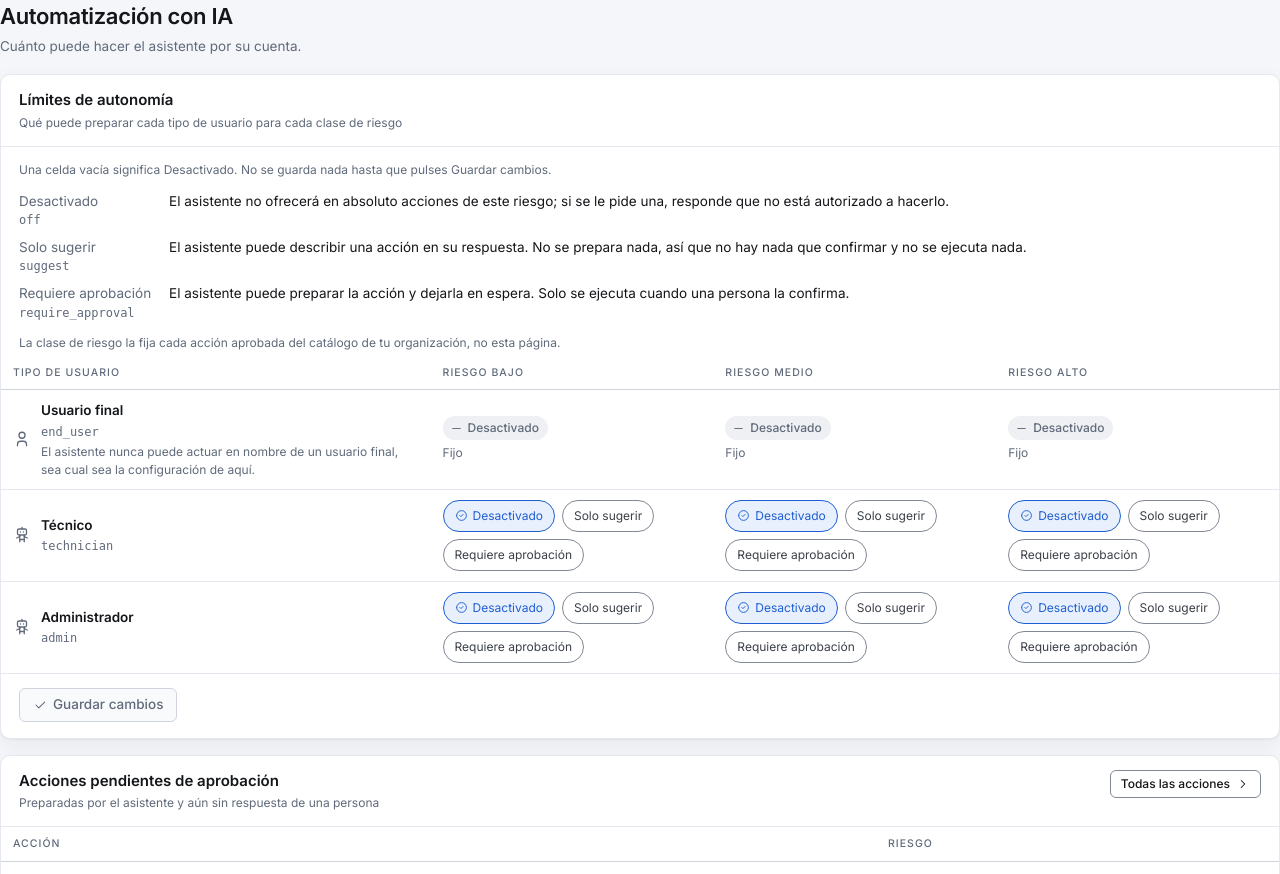
AutonomyDialPage in Spanish › applies the change, says it saved, and names the cell the server refused
Click the 1st button "Solo sugerir".
click(608, 516)  # box [562,500,654,532]
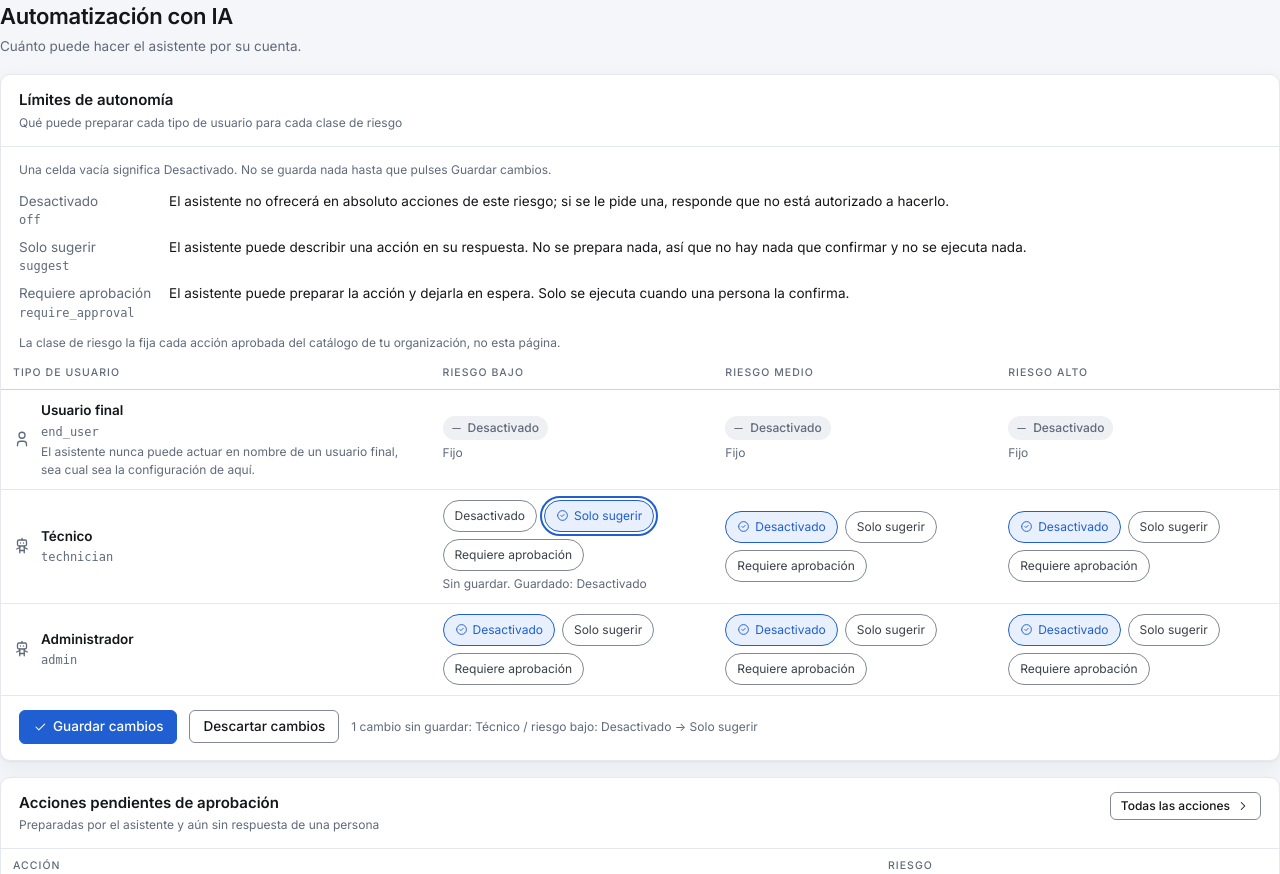
Click the button "Guardar cambios".
click(98, 726)  # box [19,710,177,744]
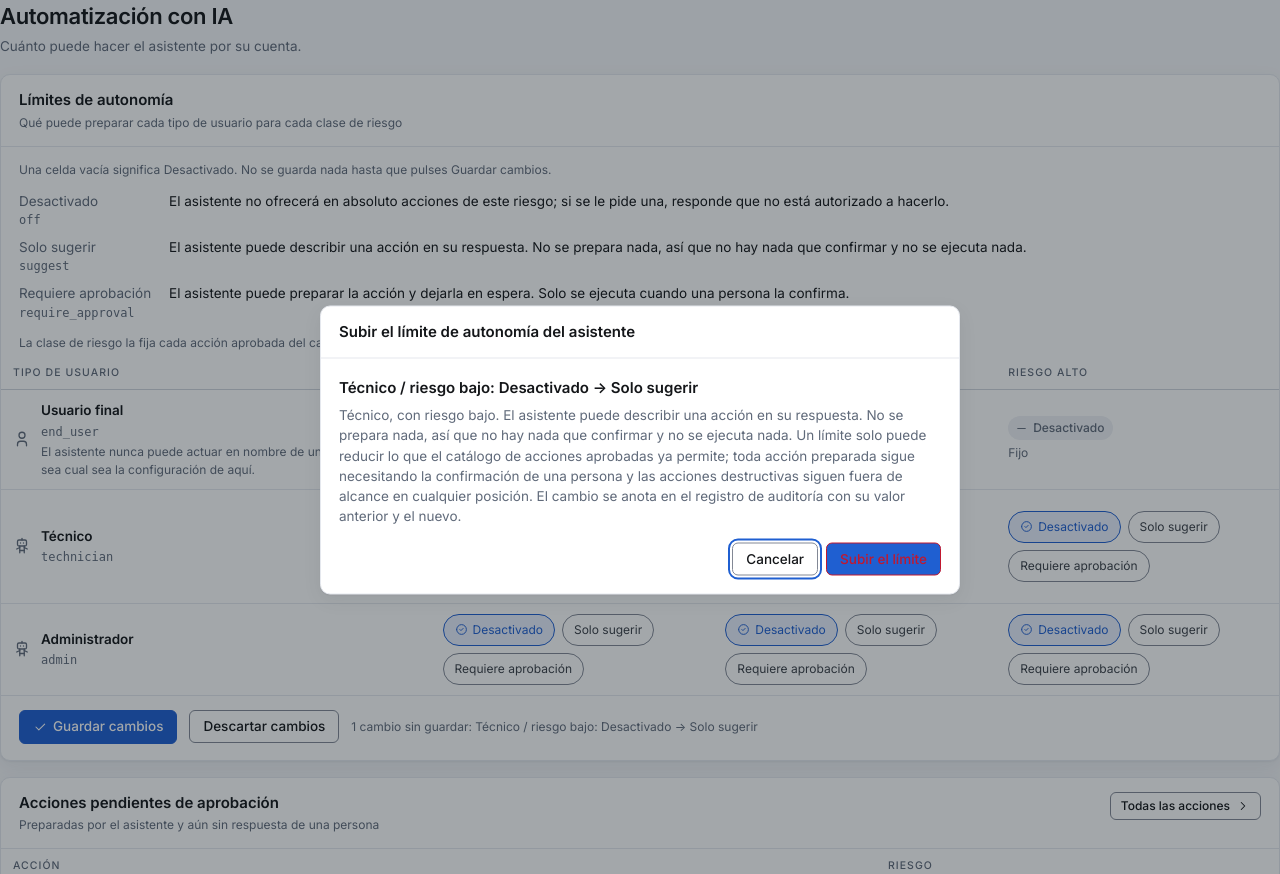
Click the button "Subir el límite".
click(884, 559)  # box [826,542,941,576]
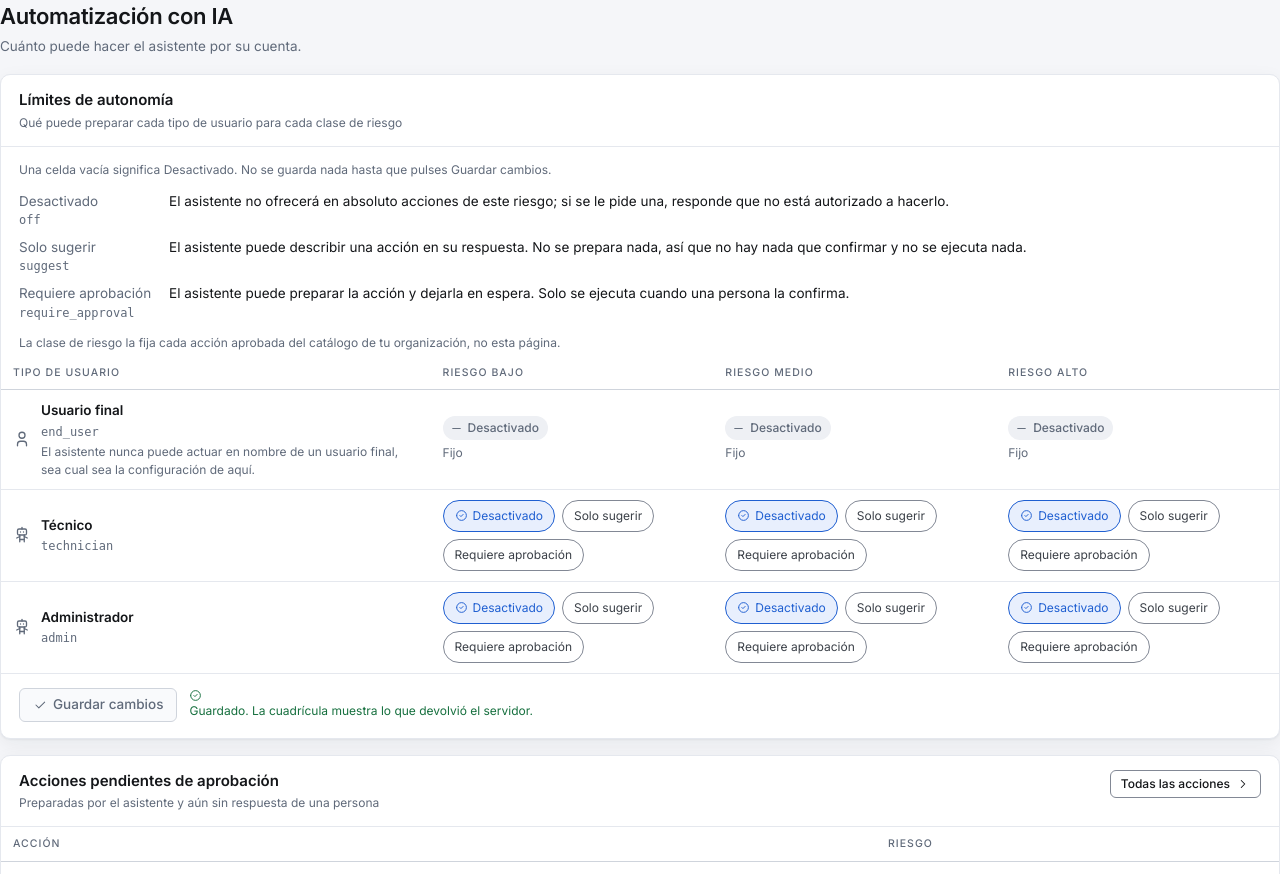
Check: the text "Guardado. La cuadrícula muestra lo que devolvió el servidor." is shown, box [189,689,533,720]
